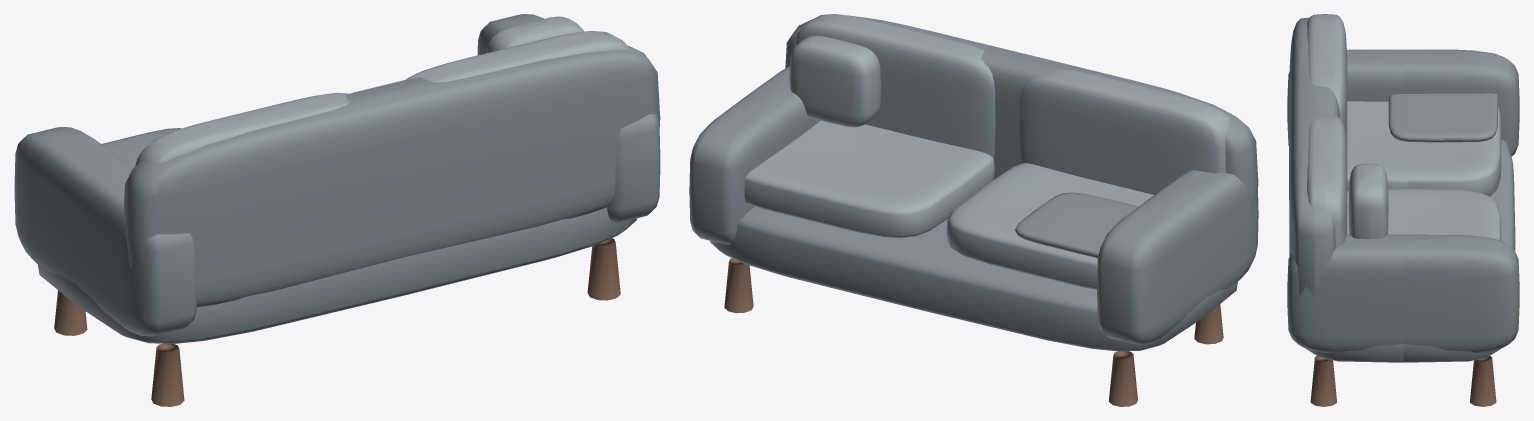
Rendered from room_sofa_2seat_v01.glb.
3 views of the same model, side by side, from view 1: azimuth 30°, elevation 25°; view 2: azimuth 150°, elevation 25°; view 3: azimuth 270°, elevation 25° (orthographic). The views are drawn at different scales.
Parts seen in each view (by area): view 1: Art Hero Sofa v01; view 2: Art Hero Sofa v01; view 3: Art Hero Sofa v01.
Boxes of the visible parts, <box> form: Art Hero Sofa v01: <box>14,14,660,406</box>; Art Hero Sofa v01: <box>689,14,1258,406</box>; Art Hero Sofa v01: <box>1287,14,1519,406</box>.
Bounding box in the file's own units: 2.01 × 0.948 × 0.9343.
